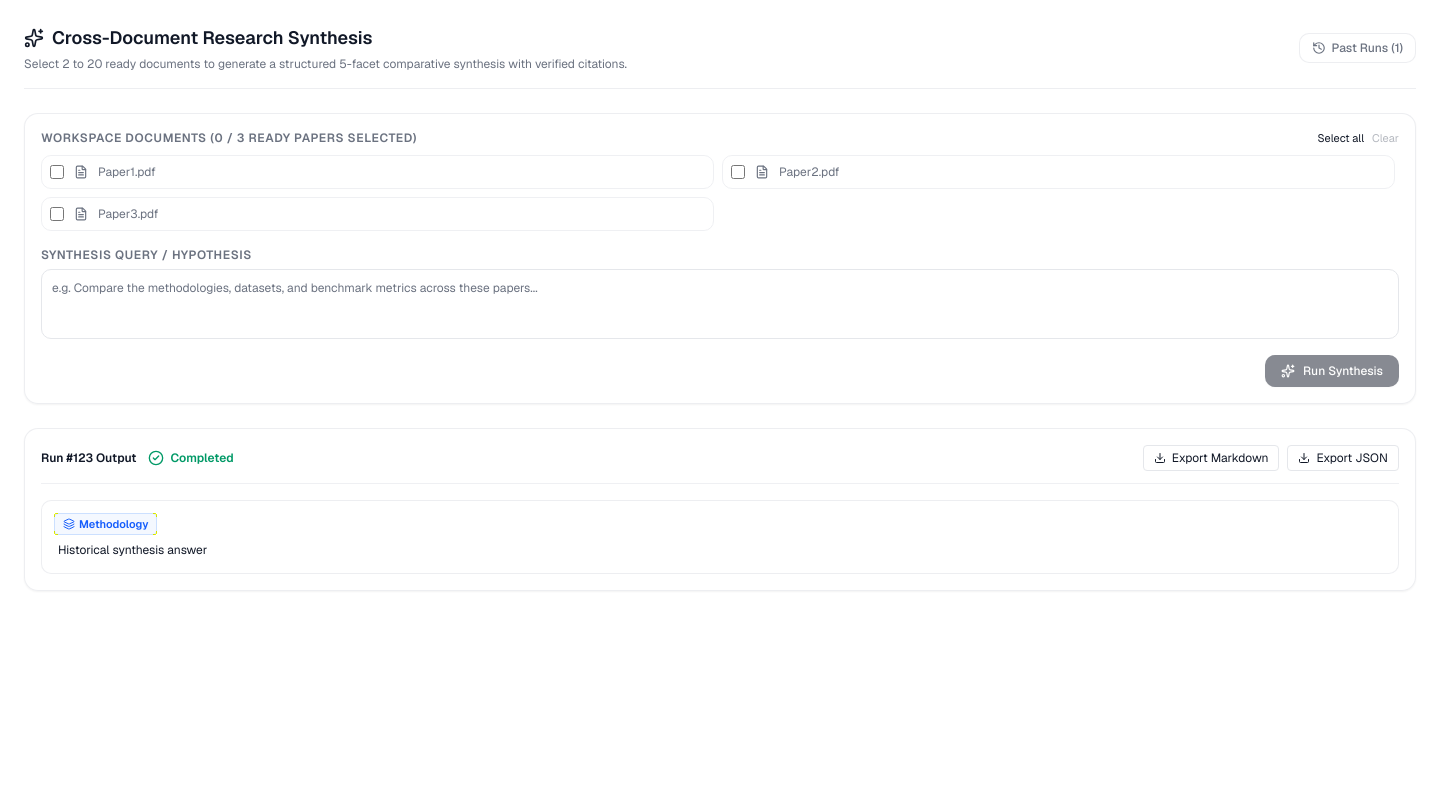
Test: WorkspaceResearchSynthesisPanel › restores the query and selected document IDs when reopening a historical run
Click the button "Past Runs (1)". click: (1357, 48)
box: x1=1298 y1=33 x2=1416 y2=63
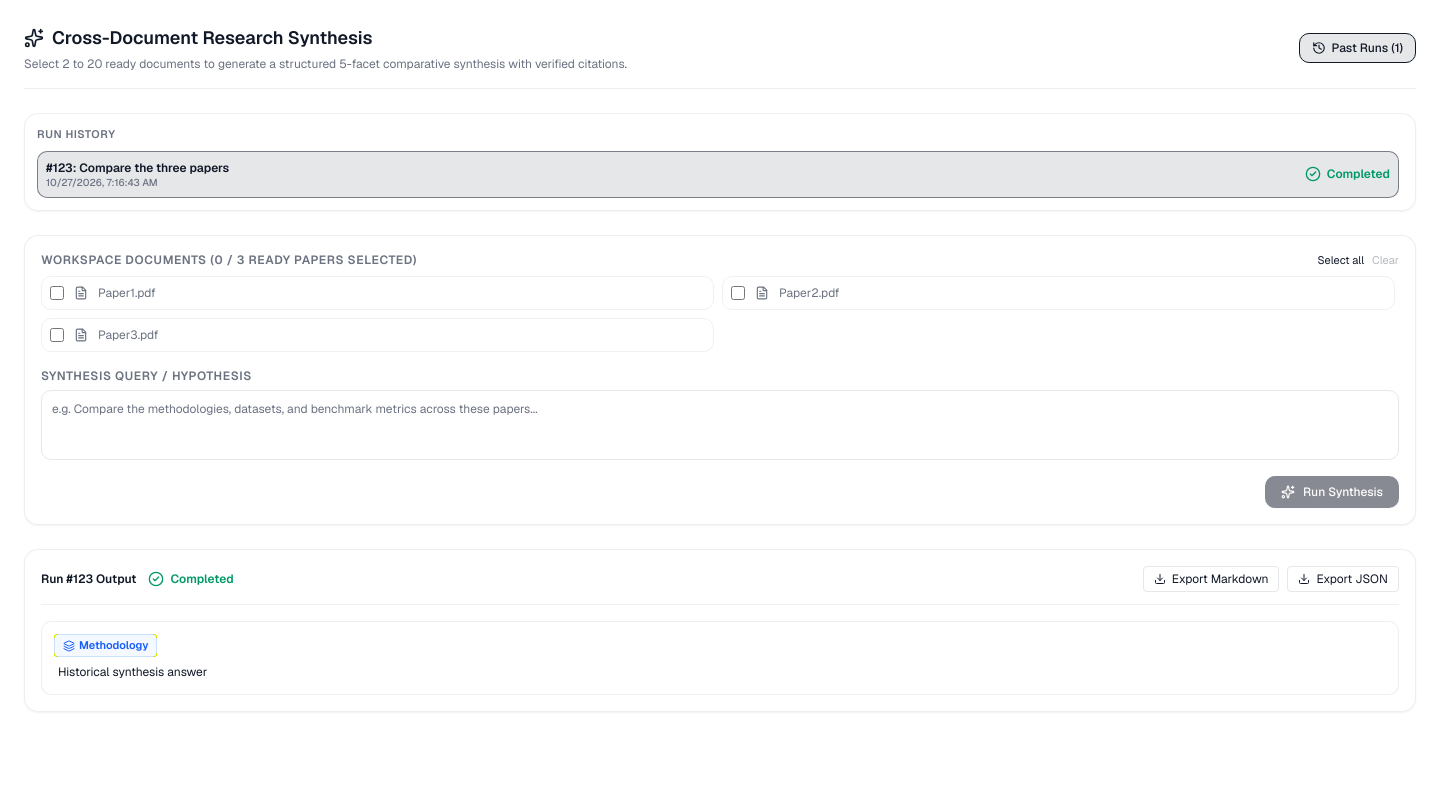
Click the button "#123: Compare the three papers". click: (154, 168)
box: x1=37 y1=150 x2=1399 y2=198
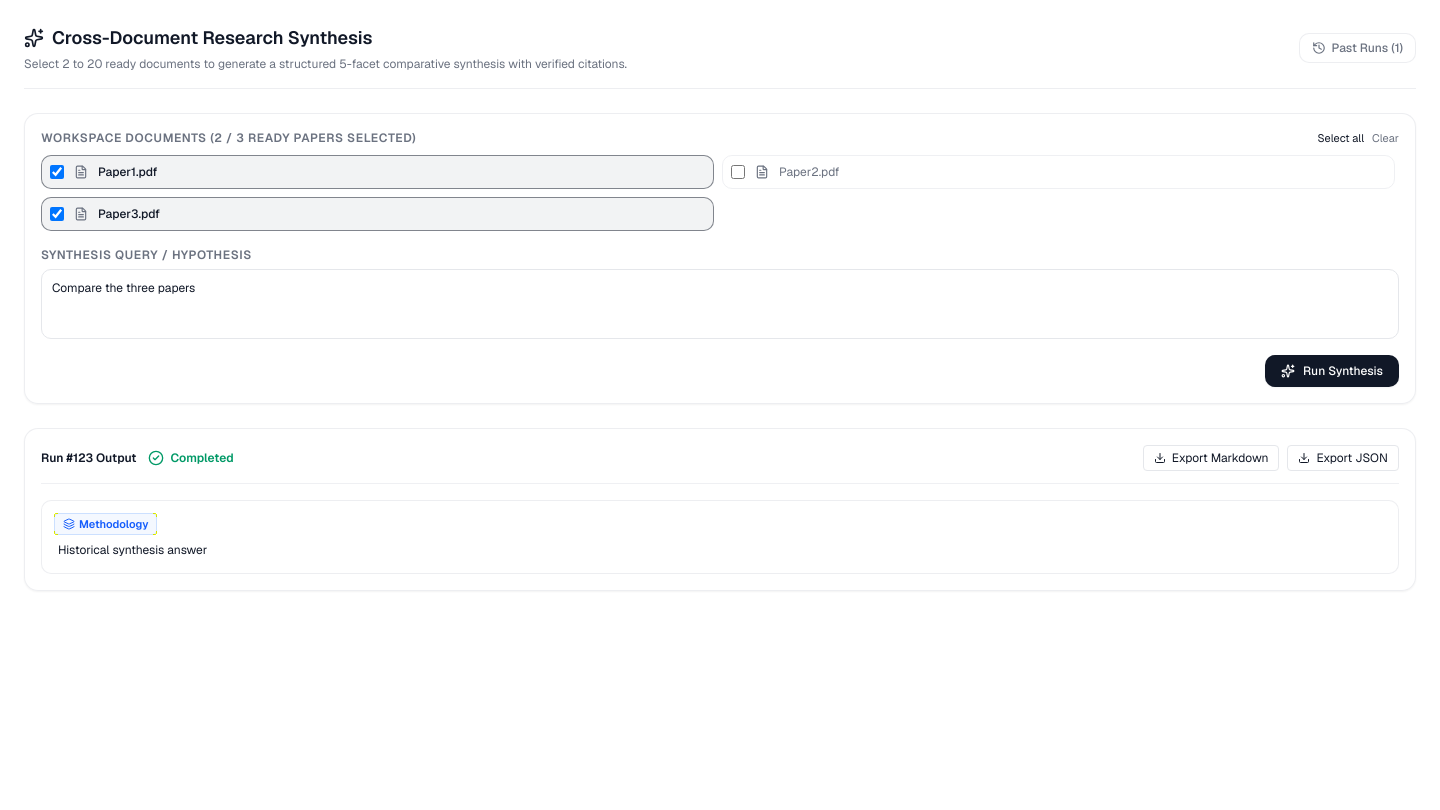
Expected: the text box labelled "Synthesis Query / Hypothesis" holds "Compare the three papers", x1=41 y1=268 x2=1399 y2=338
Expected: the checkbox labelled "Paper1.pdf" is checked, x1=50 y1=164 x2=64 y2=178
Expected: the checkbox labelled "Paper3.pdf" is checked, x1=50 y1=206 x2=64 y2=220
